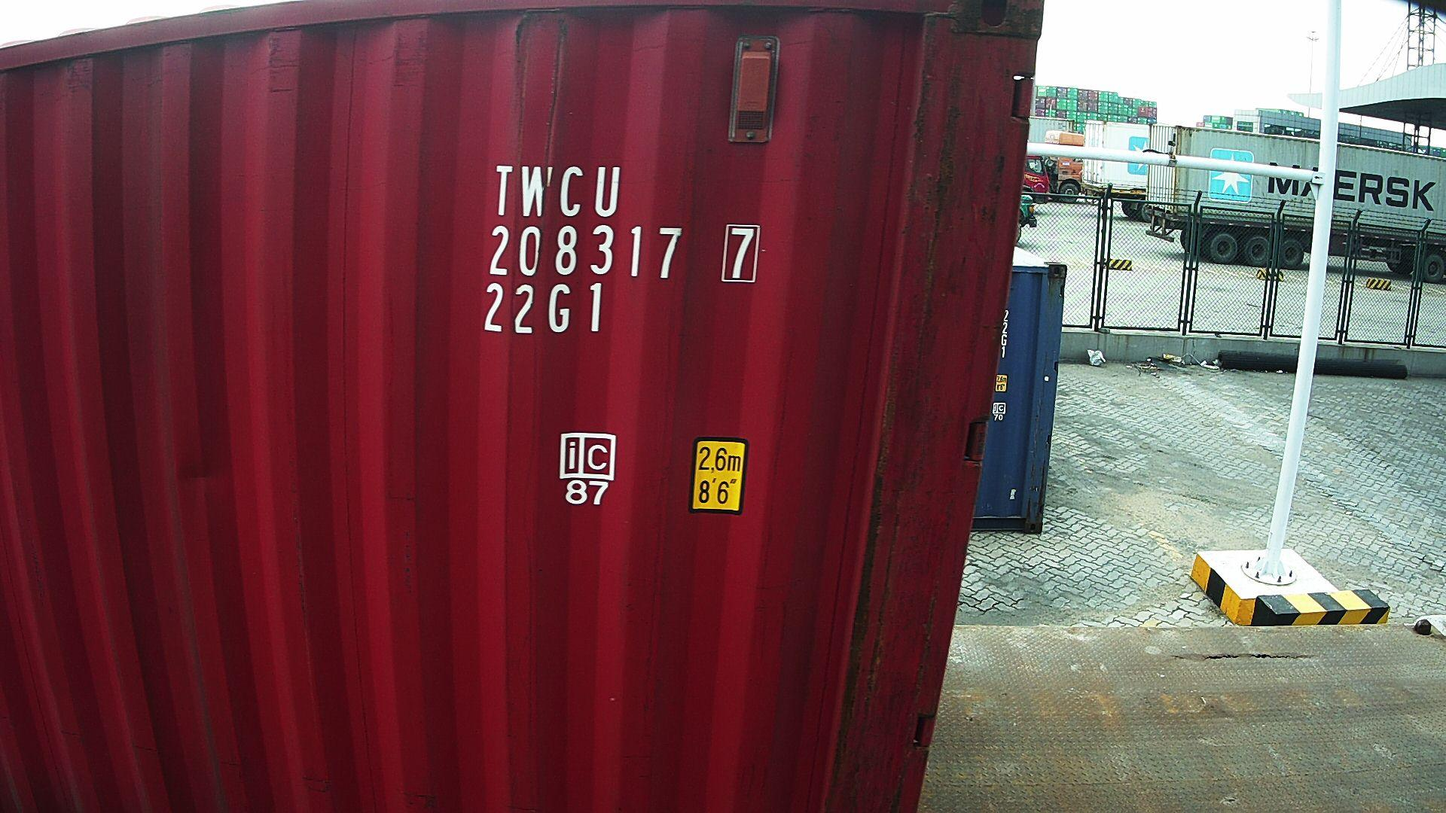container-numbers: (481, 222, 763, 288), (478, 281, 614, 341), (487, 162, 625, 221)
